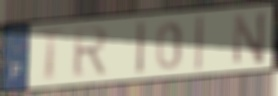0: (154, 20, 186, 71)
I: (136, 19, 148, 77), (194, 14, 205, 72)
N: (233, 9, 268, 66)
R: (72, 24, 111, 80)
T: (35, 28, 68, 83)
